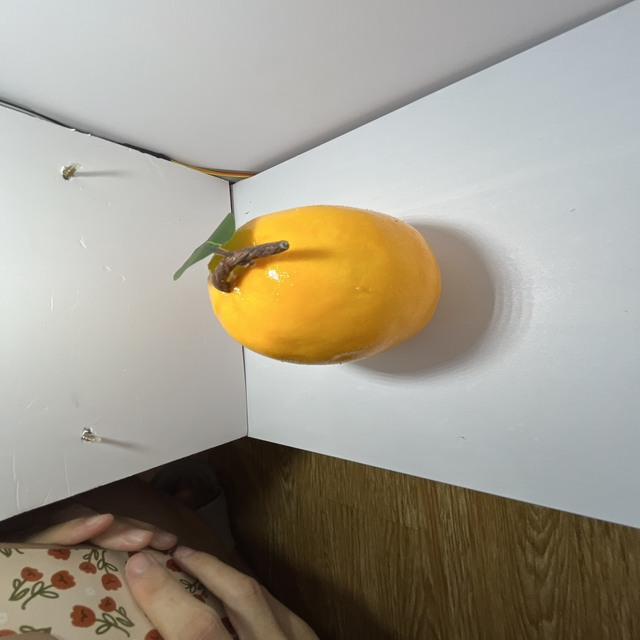Cam vang: (201, 203, 448, 369)
